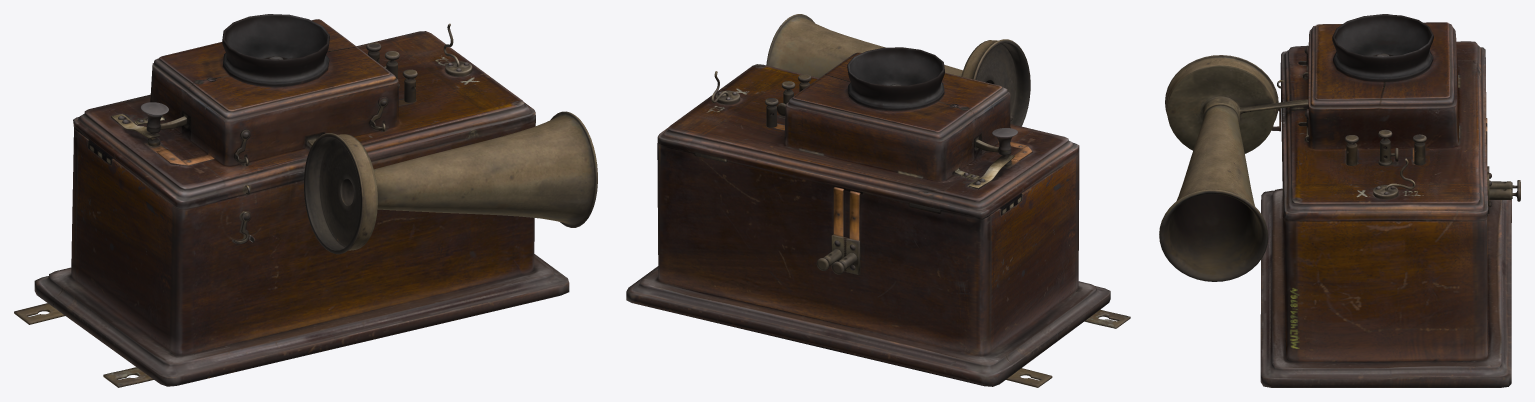
Rendered from telephone.fbx.
3 views of the same model, side by side, from view 1: azimuth 30°, elevation 25°; view 2: azimuth 150°, elevation 25°; view 3: azimuth 270°, elevation 25° (orthographic). The views are drawn at different scales.
Parts seen in each view (by area): view 1: node_7879ff6d_d076_4686_8b75_f657f071e39f_mesh0; view 2: node_7879ff6d_d076_4686_8b75_f657f071e39f_mesh0; view 3: node_7879ff6d_d076_4686_8b75_f657f071e39f_mesh0.
Part boxes in pixels (box(x1,y1,x2,y2)): node_7879ff6d_d076_4686_8b75_f657f071e39f_mesh0: box(14, 14, 597, 387); node_7879ff6d_d076_4686_8b75_f657f071e39f_mesh0: box(626, 14, 1130, 387); node_7879ff6d_d076_4686_8b75_f657f071e39f_mesh0: box(1159, 14, 1520, 387).
Size of the model in its own units: 40.46 by 23.21 by 30.74.
Materials: 1 (1 with a texture image).
